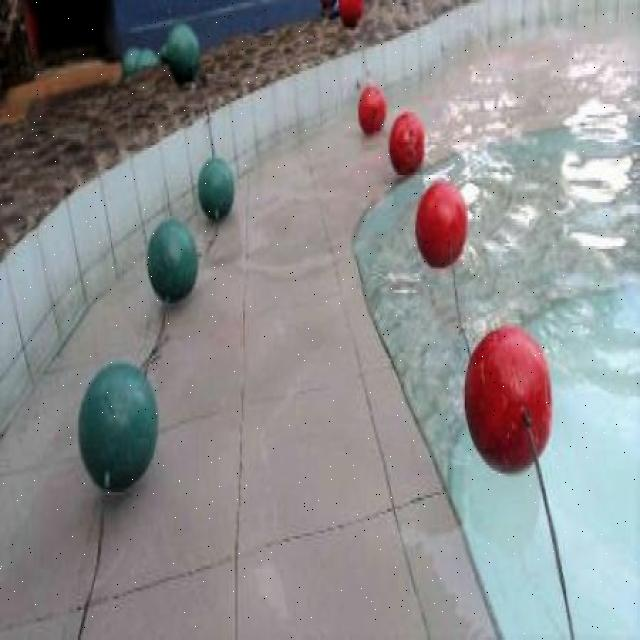buoy: (463, 324, 552, 475), (76, 362, 157, 490), (415, 180, 465, 268), (144, 218, 197, 301), (197, 156, 234, 221), (388, 111, 424, 173), (166, 22, 200, 82), (356, 84, 386, 134)
